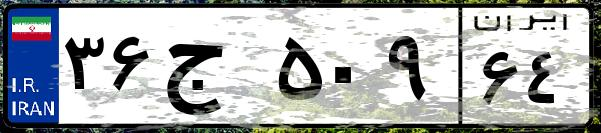0: (330, 28, 385, 110)
3: (57, 26, 110, 100)
4: (525, 38, 570, 115)
5: (270, 28, 330, 110)
6: (475, 38, 525, 113), (110, 28, 158, 98)
9: (385, 28, 445, 110)
ج: (158, 20, 270, 120)
